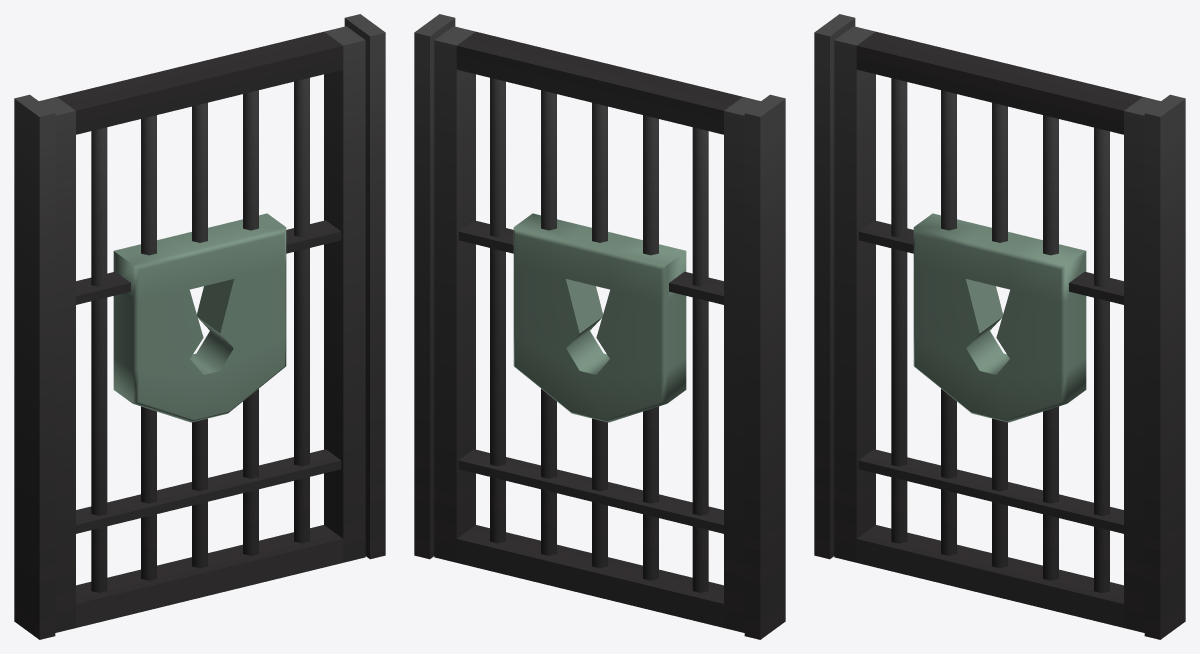
The model's file is door_with_lock.fbx.
3 views of the same model, side by side, from view 1: azimuth 30°, elevation 25°; view 2: azimuth 150°, elevation 25°; view 3: azimuth 330°, elevation 25° (orthographic).
Visible parts, largest first — view 1: door_swing, door_with_lock, lock; view 2: door_swing, door_with_lock, lock; view 3: door_swing, door_with_lock, lock.
Boxes of the visible parts, box(x1,y1,x2,y2) form: door_swing: box(39, 26, 365, 632); door_with_lock: box(14, 14, 385, 639); lock: box(113, 213, 286, 422); door_swing: box(434, 26, 760, 632); door_with_lock: box(414, 14, 785, 639); lock: box(513, 213, 686, 422); door_swing: box(834, 26, 1160, 632); door_with_lock: box(814, 14, 1185, 639); lock: box(913, 213, 1086, 422).
Size of the model in its own units: 2.04 by 2.94 by 0.2592.
2 materials, 1 textured.
